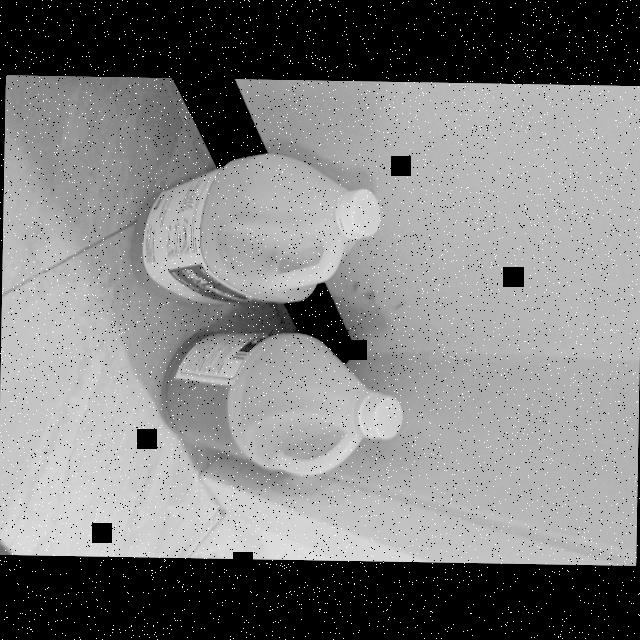chemical_plastic_gallon: (121, 144, 388, 314), (146, 320, 412, 487)
